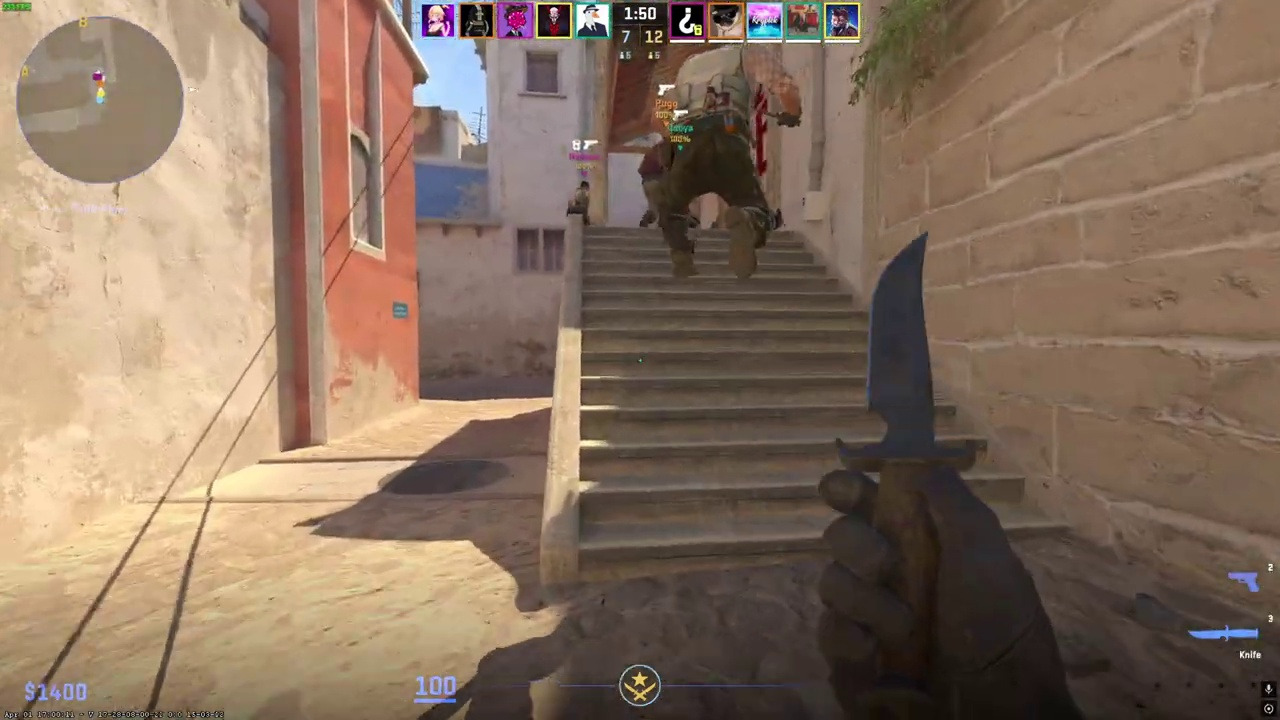Terrorist: (660, 42, 796, 280), (568, 180, 591, 225)
